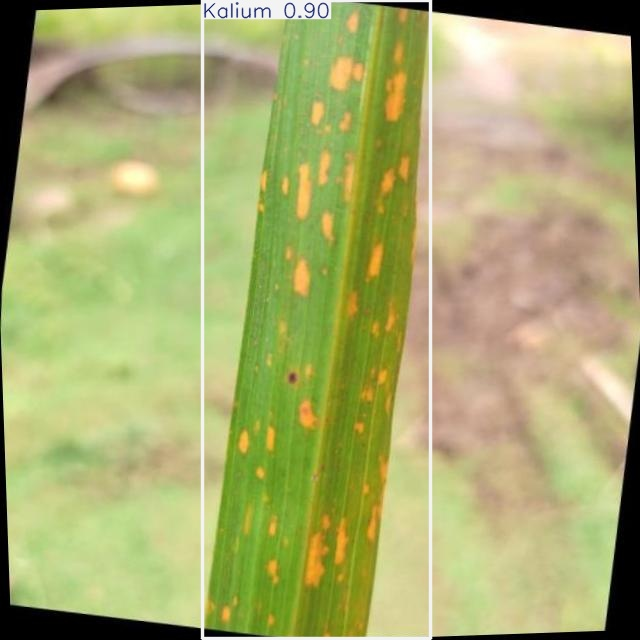Kalium: (203, 0, 431, 639)
